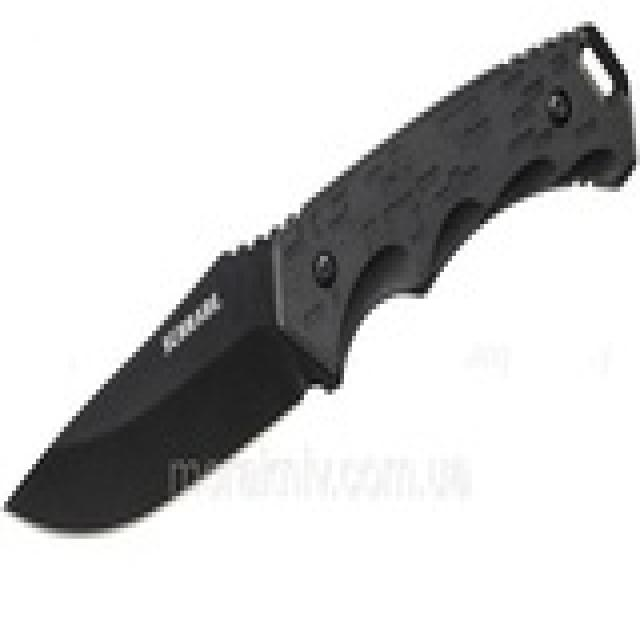Knife: (7, 8, 629, 585)
